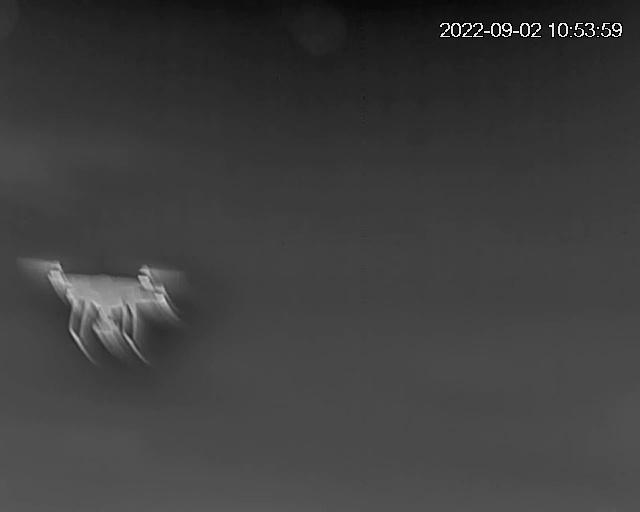DJI-Phantom: (24, 257, 190, 362)
